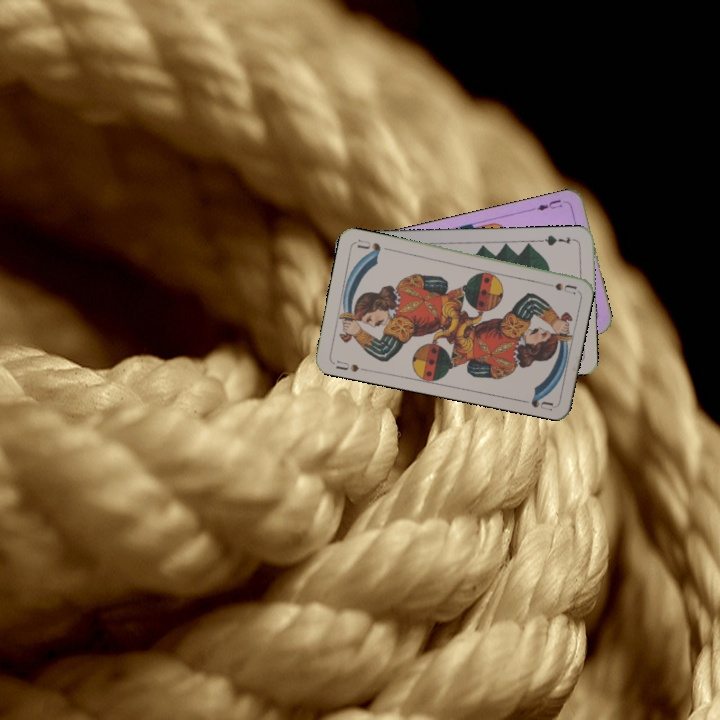EU: (533, 195, 569, 213)
G7: (538, 231, 578, 248)
SU: (537, 278, 578, 296), (332, 357, 369, 374)
